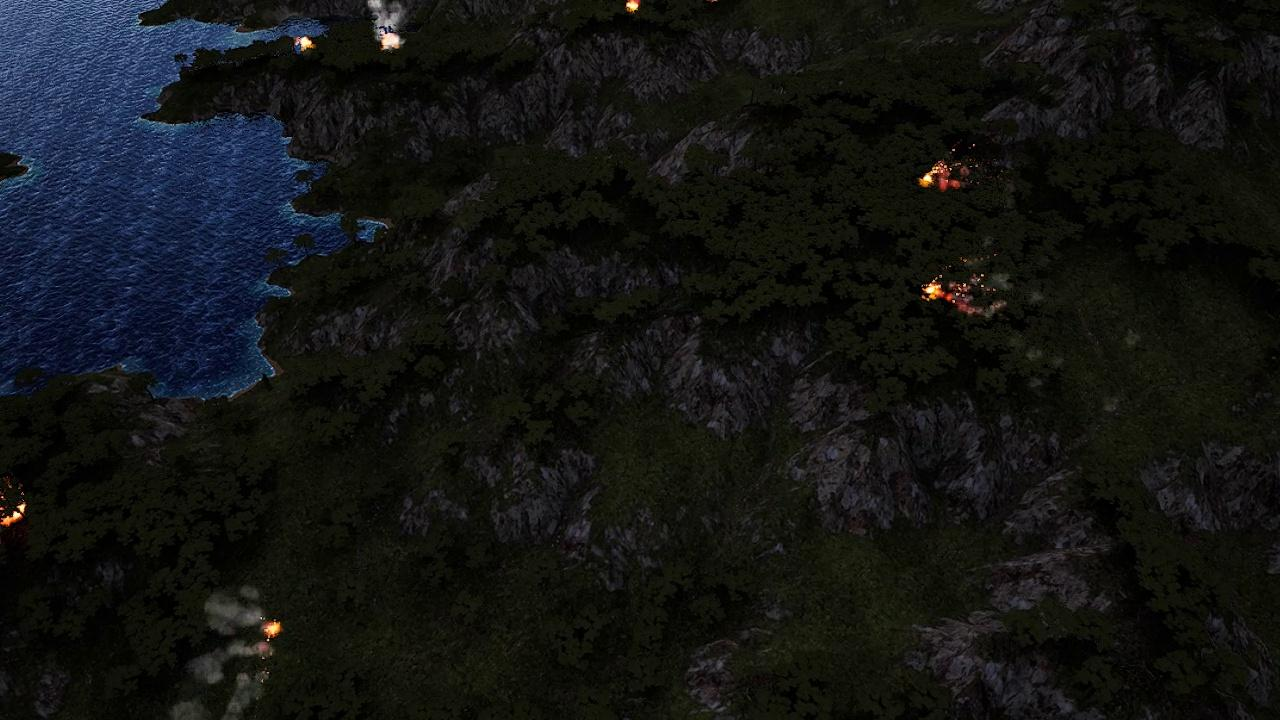fire: (920, 280, 973, 314), (918, 164, 959, 193), (0, 493, 25, 529), (378, 33, 400, 51), (265, 621, 284, 640), (295, 33, 314, 48), (625, 0, 642, 13)
smoke: (157, 583, 268, 720), (362, 0, 411, 42)
